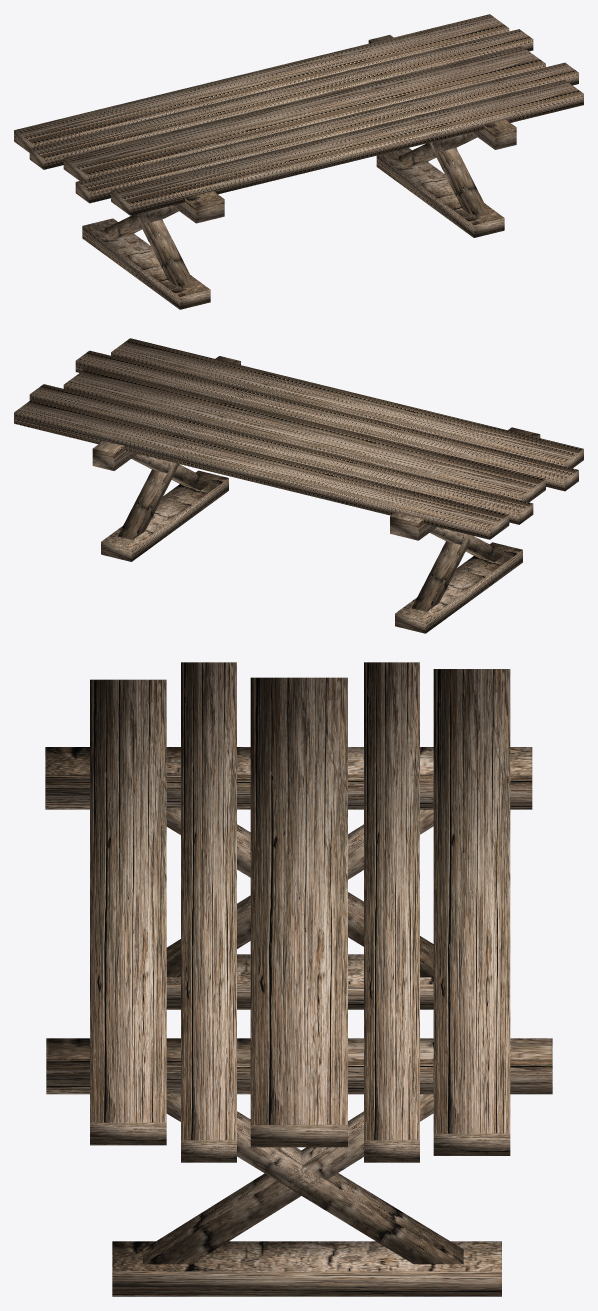
Rendered from table.obj.
3 views of the same model, one above another, from view 1: azimuth 30°, elevation 25°; view 2: azimuth 150°, elevation 25°; view 3: azimuth 270°, elevation 25° (orthographic). The views are drawn at different scales.
Visible parts, largest first — view 1: Box005, Box003, Box001, Box002, Box006, Box014, Box011, Box013, Box010, Box007, Box009, Box012 (+1 smaller); view 2: Box001, Box003, Box005, Box006, Box002, Box011, Box014, Box009, Box012, Box008, Box010, Box007 (+1 smaller); view 3: Box003, Box001, Box005, Box002, Box006, Box011, Box009, Box008, Box010, Box007, Box014, Box012 (+1 smaller).
Boxes of the visible parts, x1=… form: Box005: x1=111, y1=79, x2=583, y2=215; Box003: x1=63, y1=46, x2=545, y2=180; Box001: x1=14, y1=14, x2=509, y2=152; Box002: x1=29, y1=29, x2=533, y2=169; Box006: x1=75, y1=62, x2=578, y2=203; Box014: x1=82, y1=218, x2=210, y2=309; Box011: x1=376, y1=148, x2=504, y2=237; Box013: x1=137, y1=214, x2=195, y2=289; Box010: x1=429, y1=142, x2=489, y2=217; Box007: x1=172, y1=191, x2=224, y2=223; Box009: x1=395, y1=132, x2=477, y2=167; Box012: x1=100, y1=205, x2=178, y2=239; Box001: x1=14, y1=398, x2=509, y2=539; Box003: x1=63, y1=367, x2=545, y2=502; Box005: x1=111, y1=338, x2=583, y2=468; Box006: x1=75, y1=350, x2=578, y2=491; Box002: x1=29, y1=384, x2=533, y2=524; Box011: x1=101, y1=470, x2=228, y2=561; Box014: x1=395, y1=542, x2=522, y2=633; Box009: x1=118, y1=462, x2=179, y2=540; Box012: x1=412, y1=534, x2=470, y2=611; Box008: x1=92, y1=356, x2=240, y2=470; Box010: x1=131, y1=454, x2=212, y2=490; Box007: x1=390, y1=427, x2=540, y2=540; Box003: x1=250, y1=677, x2=347, y2=1147; Box001: x1=433, y1=669, x2=510, y2=1155; Box005: x1=90, y1=679, x2=166, y2=1145; Box002: x1=364, y1=662, x2=419, y2=1162; Box006: x1=181, y1=662, x2=236, y2=1162; Box011: x1=112, y1=1241, x2=501, y2=1296; Box009: x1=166, y1=1094, x2=463, y2=1264; Box008: x1=46, y1=1038, x2=552, y2=1094; Box010: x1=143, y1=1094, x2=433, y2=1264; Box007: x1=45, y1=747, x2=532, y2=809; Box014: x1=166, y1=954, x2=433, y2=1009; Box012: x1=166, y1=809, x2=433, y2=977.
Size of the model in its own units: 43.07 by 10.45 by 19.32.
